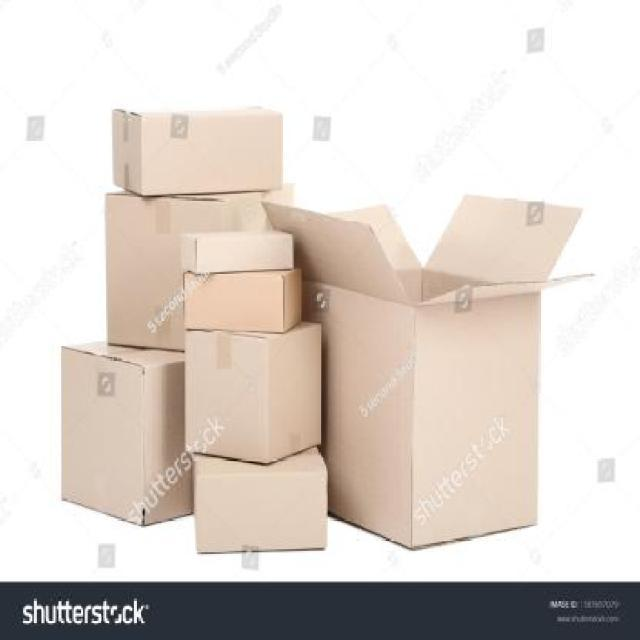BoxFace: (414, 294, 538, 552), (105, 193, 226, 352), (59, 347, 144, 527), (142, 112, 284, 196), (185, 329, 270, 466), (198, 466, 328, 552), (190, 278, 282, 334), (195, 232, 294, 270)
